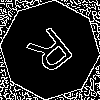R: (25, 25, 82, 83)
